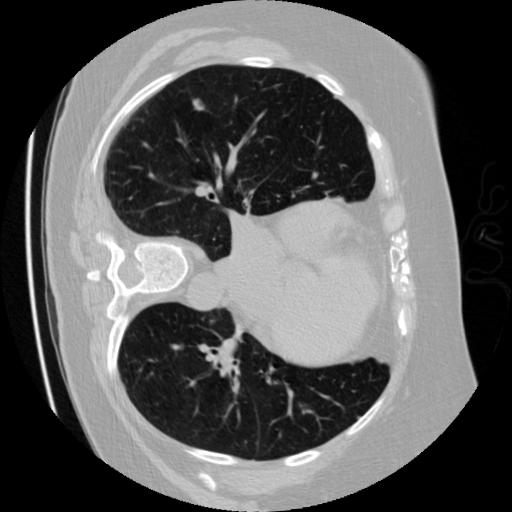nodule: (191, 96, 208, 113)
